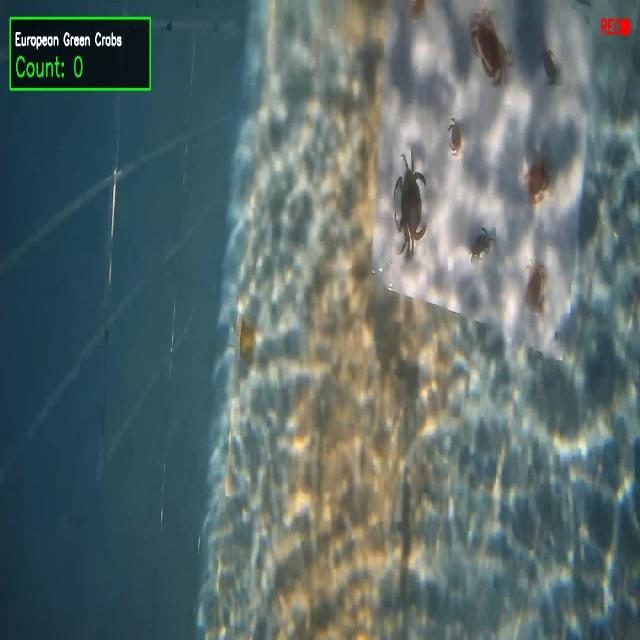European_Green_Crab: (389, 145, 430, 267), (465, 218, 496, 270), (535, 46, 563, 95)
